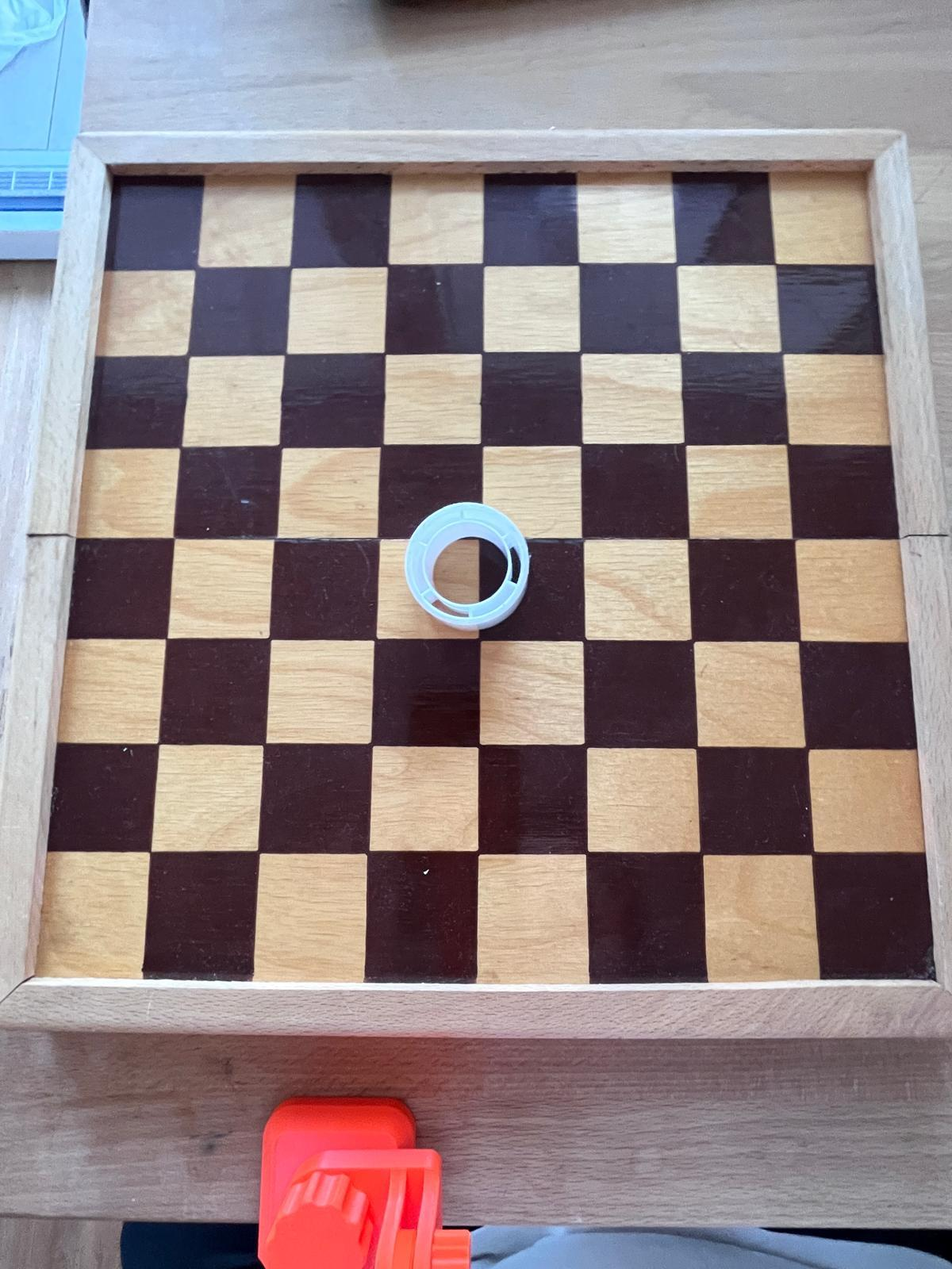tape: (395, 498, 538, 631)
